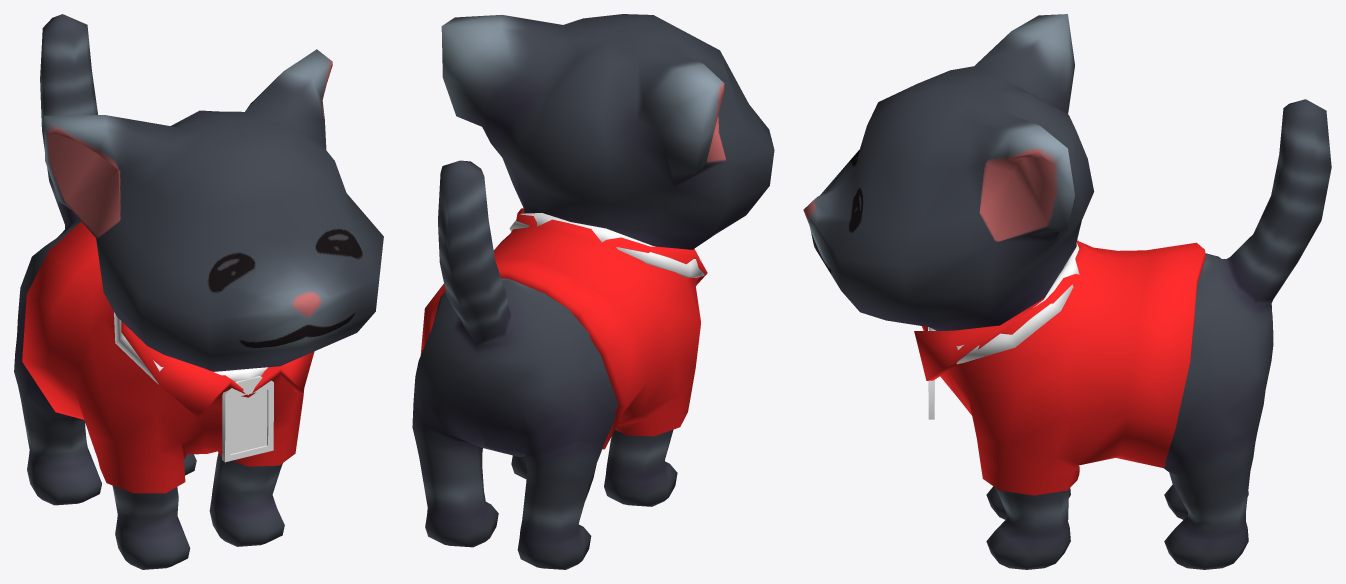
Rendered from LAMBs Cat04.fbx.
3 views of the same model, side by side, from view 1: azimuth 30°, elevation 25°; view 2: azimuth 150°, elevation 25°; view 3: azimuth 270°, elevation 25° (orthographic). The views are drawn at different scales.
Parts seen in each view (by area): view 1: Cat_Base003, LAMBs_Cat_Shirt, LAMBs_Cat_ID; view 2: Cat_Base003, LAMBs_Cat_Shirt, LAMBs_Cat_ID; view 3: Cat_Base003, LAMBs_Cat_Shirt, LAMBs_Cat_ID.
Part boxes in pixels (<box>): Cat_Base003: <box>14,14,383,569</box>; LAMBs_Cat_Shirt: <box>22,221,314,493</box>; LAMBs_Cat_ID: <box>114,312,273,462</box>; Cat_Base003: <box>412,14,774,569</box>; LAMBs_Cat_Shirt: <box>420,208,707,449</box>; LAMBs_Cat_ID: <box>509,213,704,277</box>; Cat_Base003: <box>803,14,1331,569</box>; LAMBs_Cat_Shirt: <box>914,240,1205,495</box>; LAMBs_Cat_ID: <box>928,239,1079,419</box>.
Bounding box in the file's own units: 1.75 × 2.83 × 2.68.
3 materials, 1 textured.
